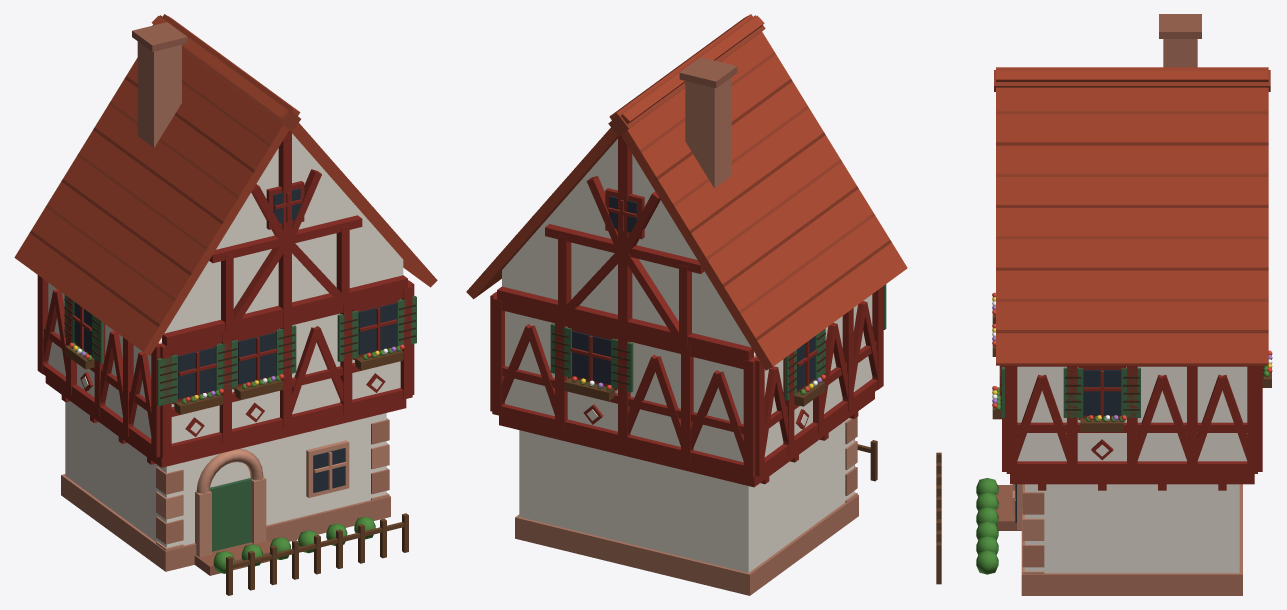
File: wohnhaus_2.glb
3 renders of one model, left to right at view 1: azimuth 30°, elevation 25°; view 2: azimuth 150°, elevation 25°; view 3: azimuth 270°, elevation 25°, orthographic. The views are drawn at different scales.
Bounding box in the file's own units: 3.34 × 5.06 × 3.13.
